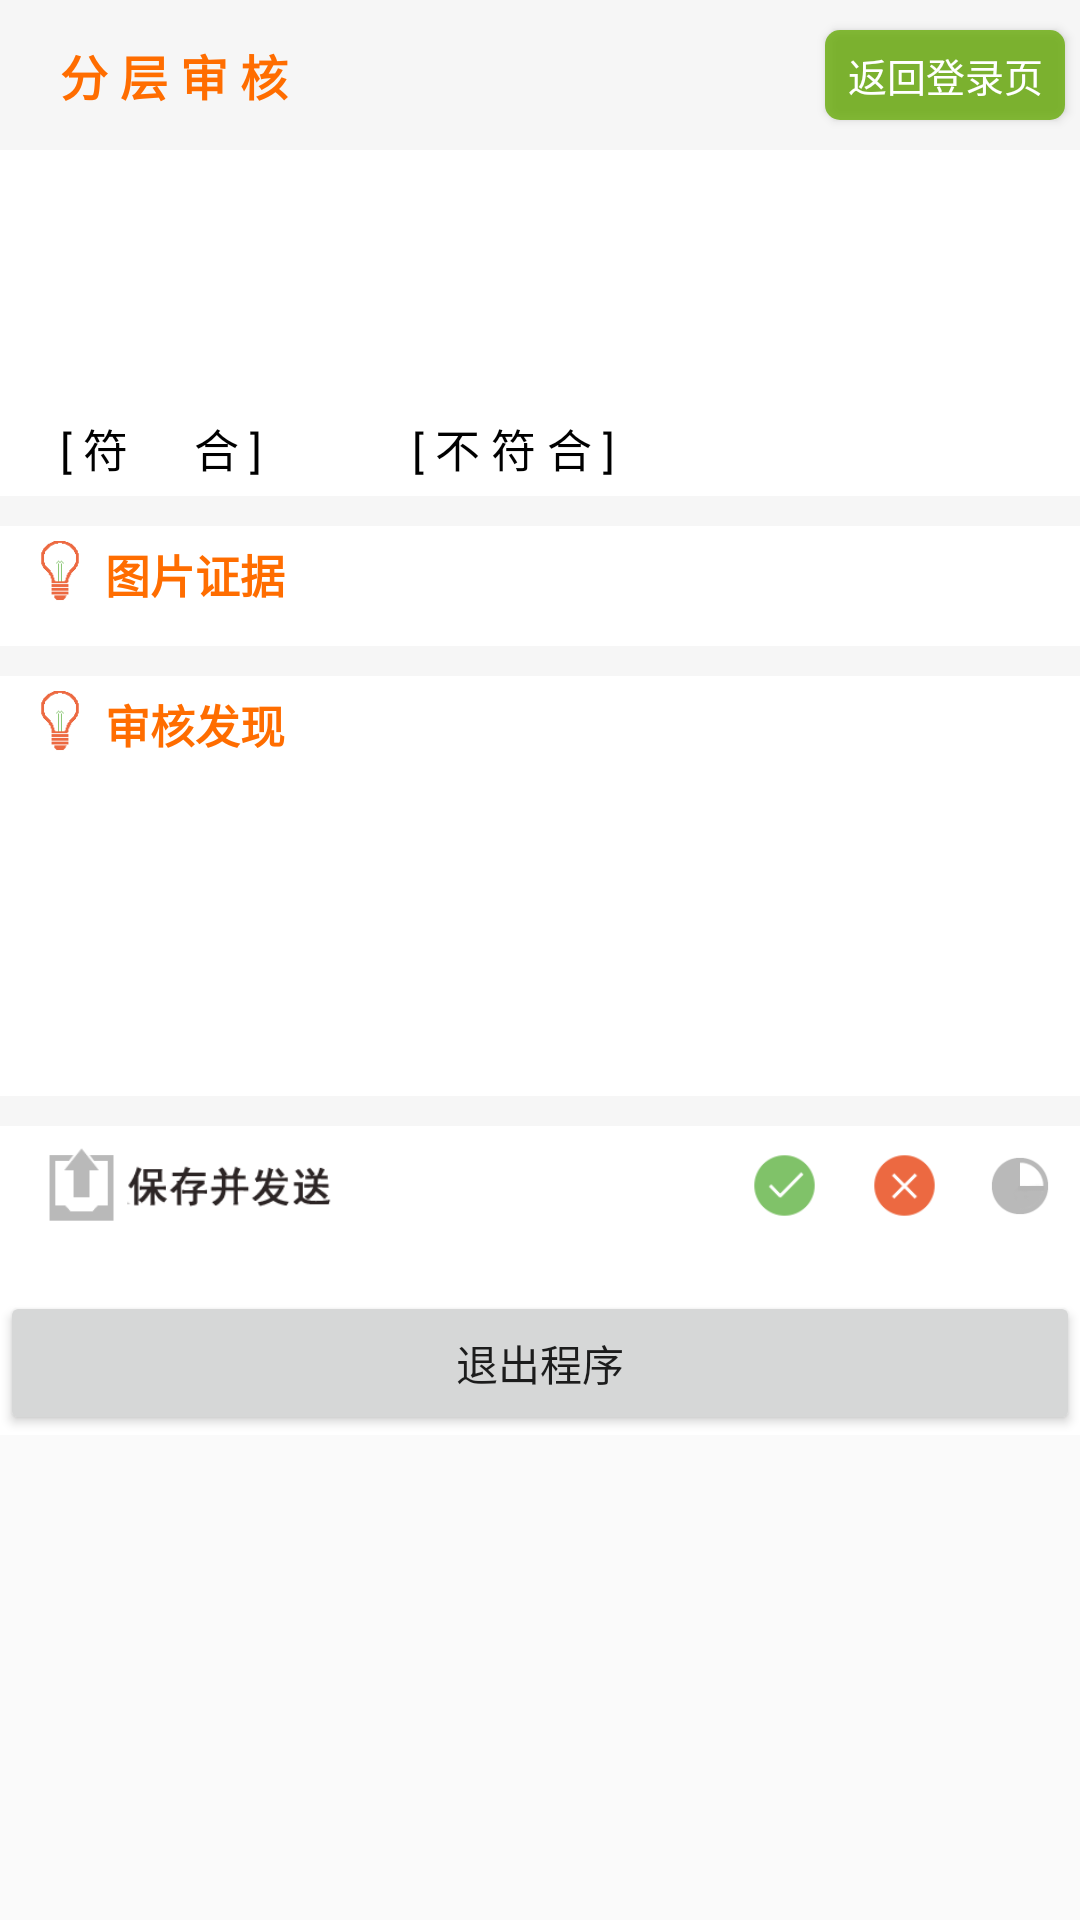

Named icons in this screenshot (1080px×1920px) and their bounding boxes, (x1, y1, x2, y2):
bulb: (41, 541, 79, 600), (41, 691, 79, 750)
nostatus: (874, 1155, 935, 1216)
yesstatus: (754, 1155, 815, 1216)
